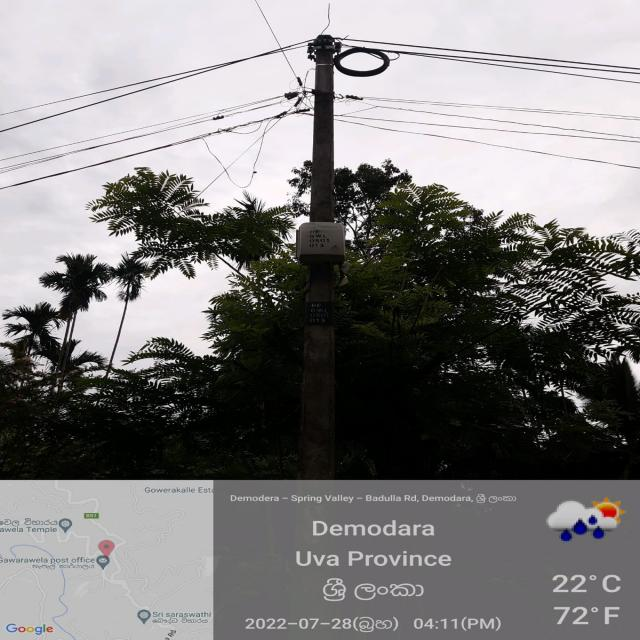light_pole: (280, 28, 360, 480)
